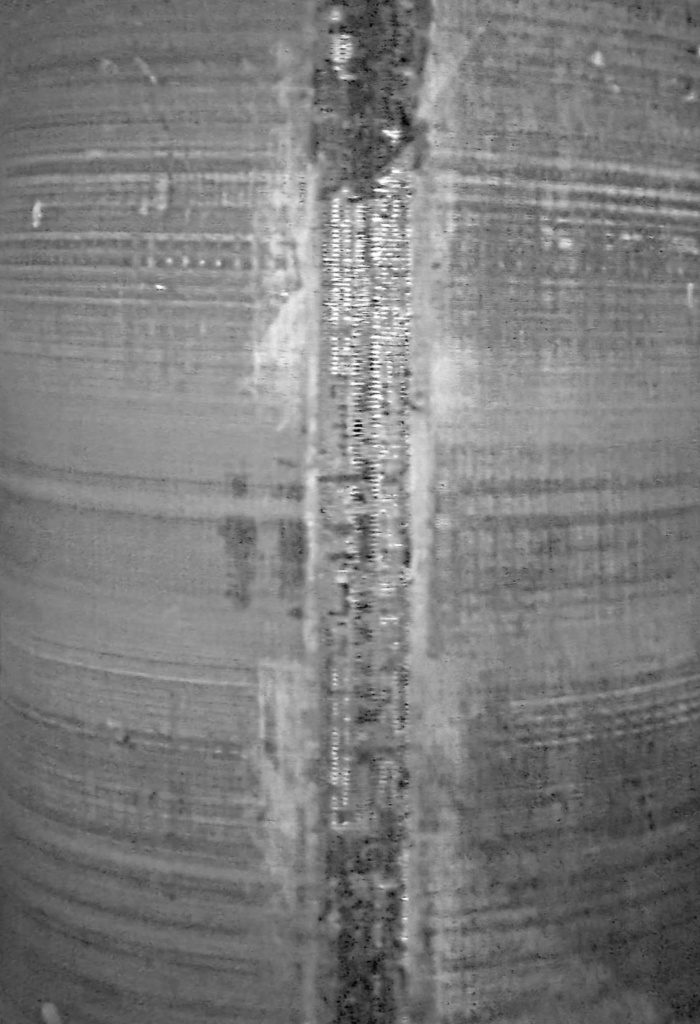splice: (309, 1, 435, 1024)
